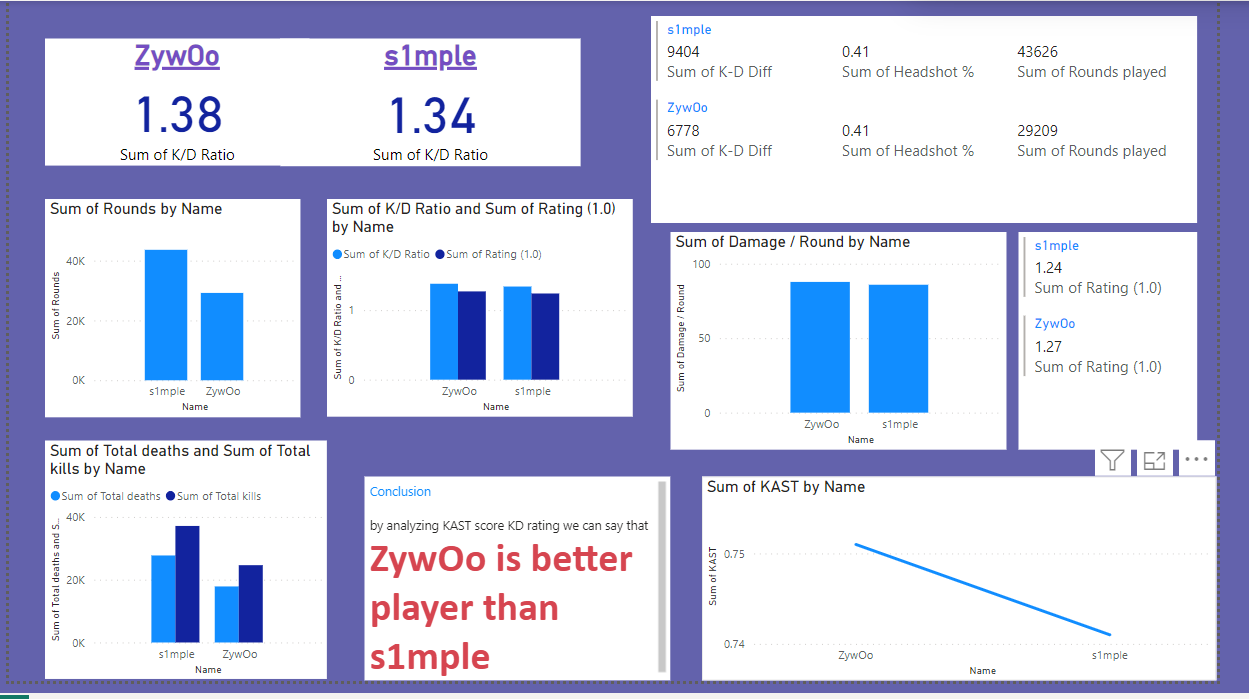

The page's visual inventory and layout, read from the dashboard file:
{"tool":"powerbi","page":{"name":"Dashboard","canvas":[1280,720],"ordinal":0},"visuals":[{"type":"clusteredColumnChart","fields":{"Y":["Sum(Tier1&2.Rounds)"],"Category":["Tier1&2.Name"]},"box":[37.9,210.2,270.8,231],"z":0},{"type":"clusteredColumnChart","fields":{"Y":["Sum(Tier1&2.Total deaths)","Sum(Tier1&2.Total kills)"],"Category":["Tier1&2.Name"]},"box":[38.1,465.7,298.8,252.7],"z":1000},{"type":"clusteredColumnChart","fields":{"Category":["Tier1&2.Name"],"Y":["Sum(Tier1&2.K/D Ratio)","Sum(Tier1&2.Rating (1.0))"]},"box":[337,209.8,324.2,230.5],"z":2000},{"type":"card","title":"ZywOo","fields":{"Values":["Sum(Tier1&2.K/D Ratio)"]},"box":[37.9,39.8,280.2,134.4],"z":3000},{"type":"card","title":"s1mple","fields":{"Values":["Sum(Tier1&2.K/D Ratio)"]},"box":[287.7,39.7,317.9,135.1],"z":4000},{"type":"multiRowCard","fields":{"Values":["Tier1&2.Name","Sum(Tier1&2.K-D Diff)","Sum(Tier1&2.Headshot %)","Sum(Tier1&2.Rounds played)"]},"box":[680.3,15.9,578.5,219.3],"z":5000},{"type":"multiRowCard","fields":{"Values":["Tier1&2.Name","Sum(Tier1&2.Rating (1.0))"]},"box":[1069.7,244.8,189.1,230.5],"z":6000},{"type":"lineChart","fields":{"Category":["Tier1&2.Name"],"Y":["Sum(Tier1&2.KAST)"]},"box":[734.3,503.8,545.2,216.2],"z":7000},{"type":"clusteredColumnChart","fields":{"Y":["Sum(Tier1&2.Damage / Round)"],"Category":["Tier1&2.Name"]},"box":[700.9,244.8,356,230.5],"z":8000},{"type":"textbox","box":[376.7,503.8,324.2,216.2],"z":9000}]}

Visuals, with their boxes in screenshot pixels (x1, y1, x2, y2), scaled from the page's 1280x720 canvas onto the 1249x699 screenshot:
clusteredColumnChart - Sum(Tier1&2.Rounds) x Tier1&2.Name: pyautogui.locateOnScreen(37, 204, 301, 428)
clusteredColumnChart - Sum(Tier1&2.Total deaths) x Sum(Tier1&2.Total kills): pyautogui.locateOnScreen(37, 452, 329, 697)
clusteredColumnChart - Tier1&2.Name x Sum(Tier1&2.K/D Ratio): pyautogui.locateOnScreen(329, 204, 645, 427)
"ZywOo" card: pyautogui.locateOnScreen(37, 39, 310, 169)
"s1mple" card: pyautogui.locateOnScreen(281, 39, 591, 170)
multiRowCard - Tier1&2.Name x Sum(Tier1&2.K-D Diff): pyautogui.locateOnScreen(664, 15, 1228, 228)
multiRowCard - Tier1&2.Name x Sum(Tier1&2.Rating (1.0)): pyautogui.locateOnScreen(1044, 238, 1228, 461)
lineChart - Tier1&2.Name x Sum(Tier1&2.KAST): pyautogui.locateOnScreen(717, 489, 1248, 698)
clusteredColumnChart - Sum(Tier1&2.Damage / Round) x Tier1&2.Name: pyautogui.locateOnScreen(684, 238, 1031, 461)
textbox: pyautogui.locateOnScreen(368, 489, 684, 698)
